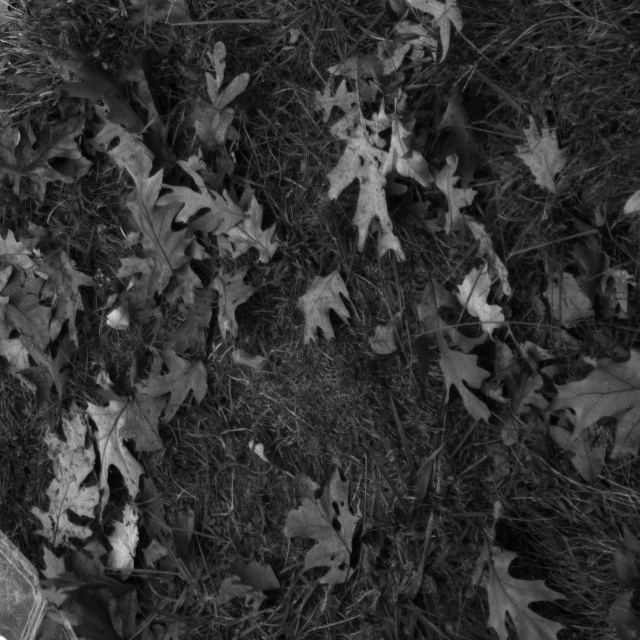container: (0, 488, 146, 640)
